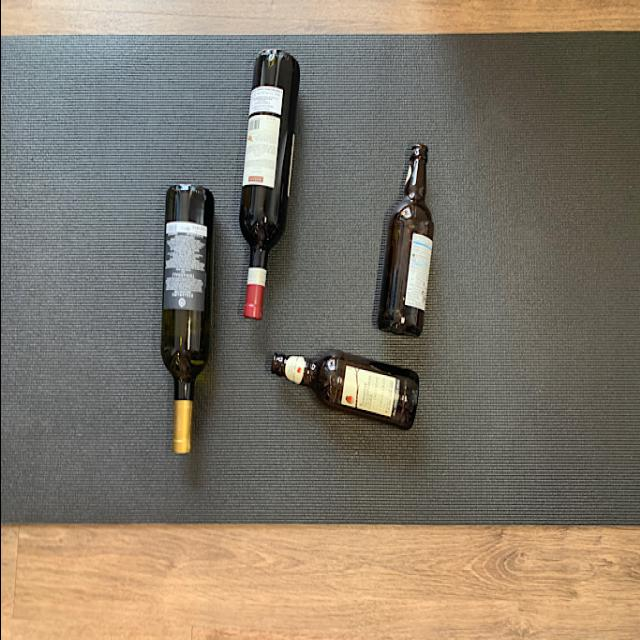Glass Bottle: (228, 42, 302, 332), (158, 187, 216, 483), (267, 348, 425, 442), (370, 135, 440, 335)
